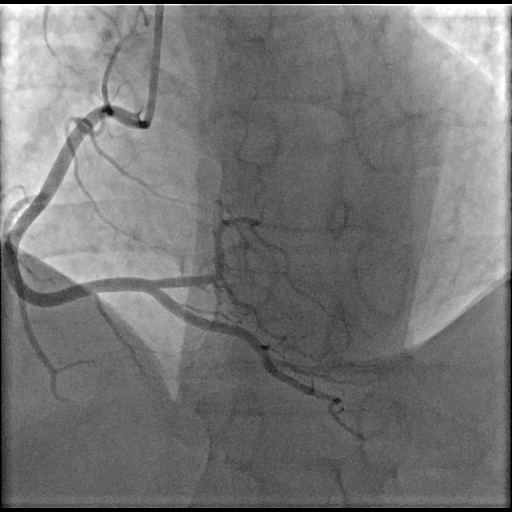RCA: (0, 107, 330, 399)
catherter: (138, 3, 165, 126)
